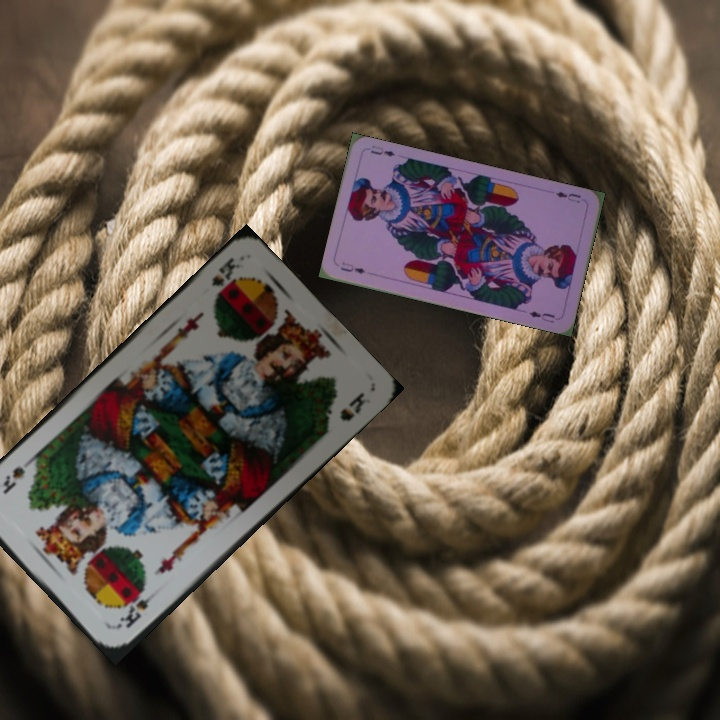EU: (551, 187, 583, 206), (336, 258, 368, 276)
SK: (112, 586, 161, 631), (207, 253, 243, 299)
